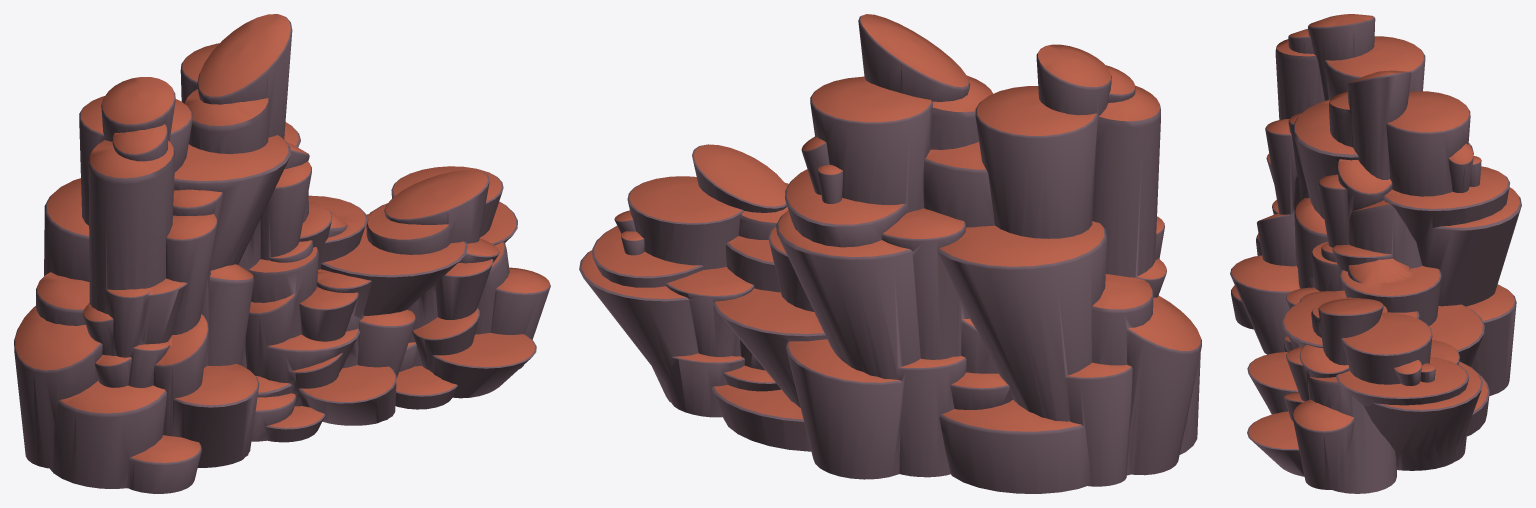
Rendered from CliffGroundTest_01.fbx.
3 renders of one model, left to right at view 1: azimuth 30°, elevation 25°; view 2: azimuth 150°, elevation 25°; view 3: azimuth 270°, elevation 25°, orthographic. The views are drawn at different scales.
Visible parts, largest first — view 1: Model; view 2: Model; view 3: Model.
Part boxes in pixels (x1,y1,x2,y2): Model: [14, 14, 550, 493]; Model: [579, 14, 1201, 493]; Model: [1230, 14, 1521, 493].
Size of the model in its own units: 10764 by 7220 by 5854.
